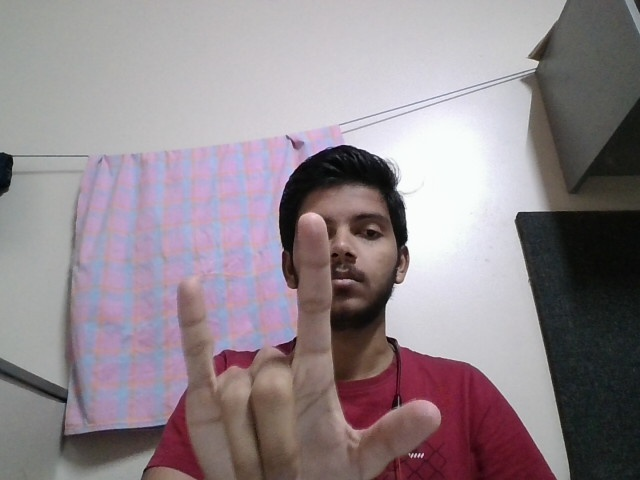I Love You: (161, 209, 445, 473)
